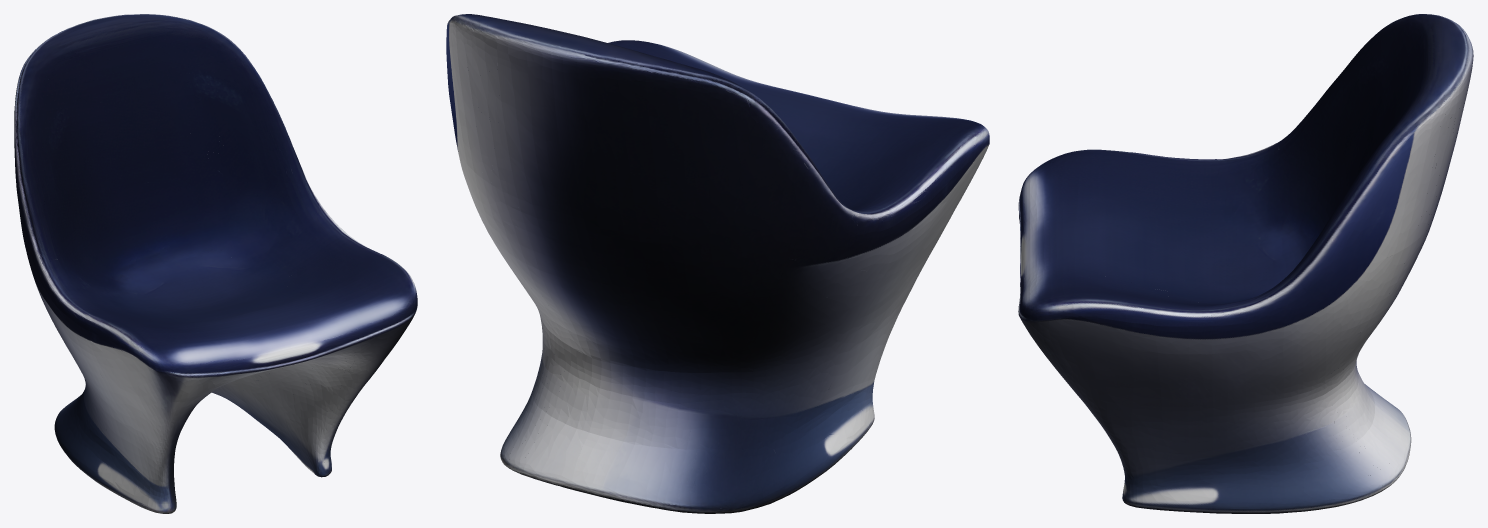
Rendered from futuristic_blue_chair.glb.
3 renders of one model, left to right at view 1: azimuth 30°, elevation 25°; view 2: azimuth 150°, elevation 25°; view 3: azimuth 270°, elevation 25°, orthographic. The views are drawn at different scales.
Parts seen in each view (by area): view 1: Furniutre chair 2_0; view 2: Furniutre chair 2_0; view 3: Furniutre chair 2_0.
Boxes of the visible parts, bbox=[...] form: Furniutre chair 2_0: bbox=[14, 14, 417, 513]; Furniutre chair 2_0: bbox=[446, 14, 989, 513]; Furniutre chair 2_0: bbox=[1018, 14, 1473, 513].
Bounding box in the file's own units: 0.8264 × 0.9999 × 0.9948.
1 material, 1 textured.
